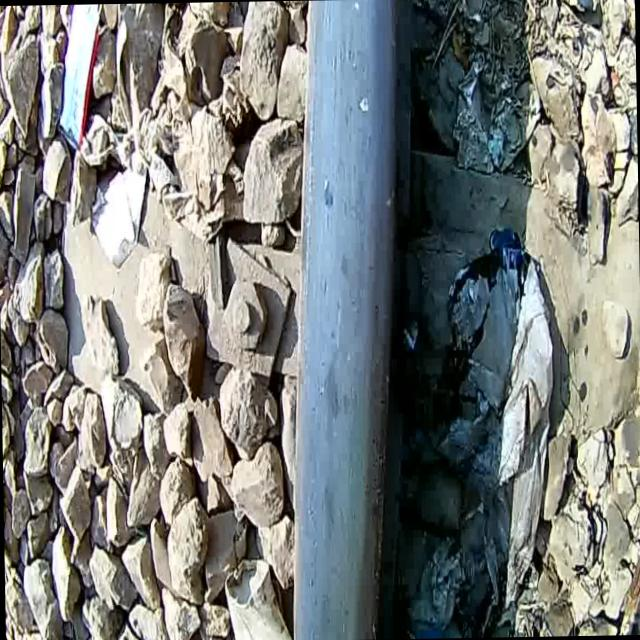Squats: (261, 0, 433, 640)
